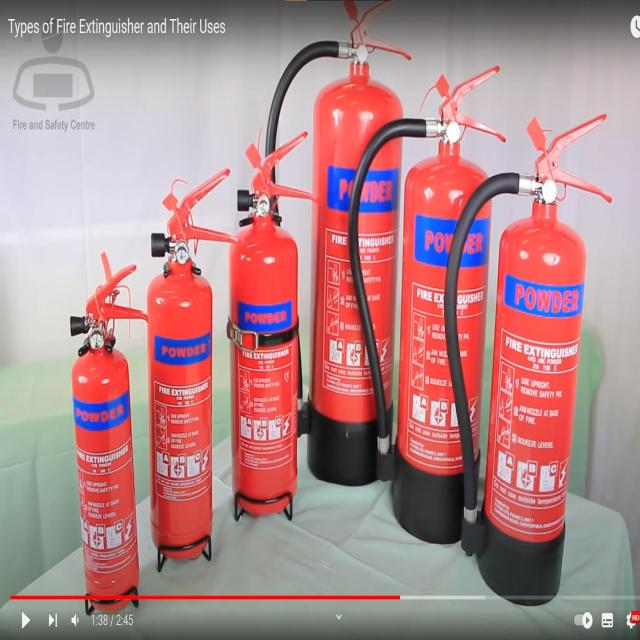fire_extinguisher: (442, 104, 616, 612), (344, 61, 510, 548), (254, 4, 418, 495), (145, 165, 242, 559), (226, 128, 322, 525), (65, 249, 153, 623)
